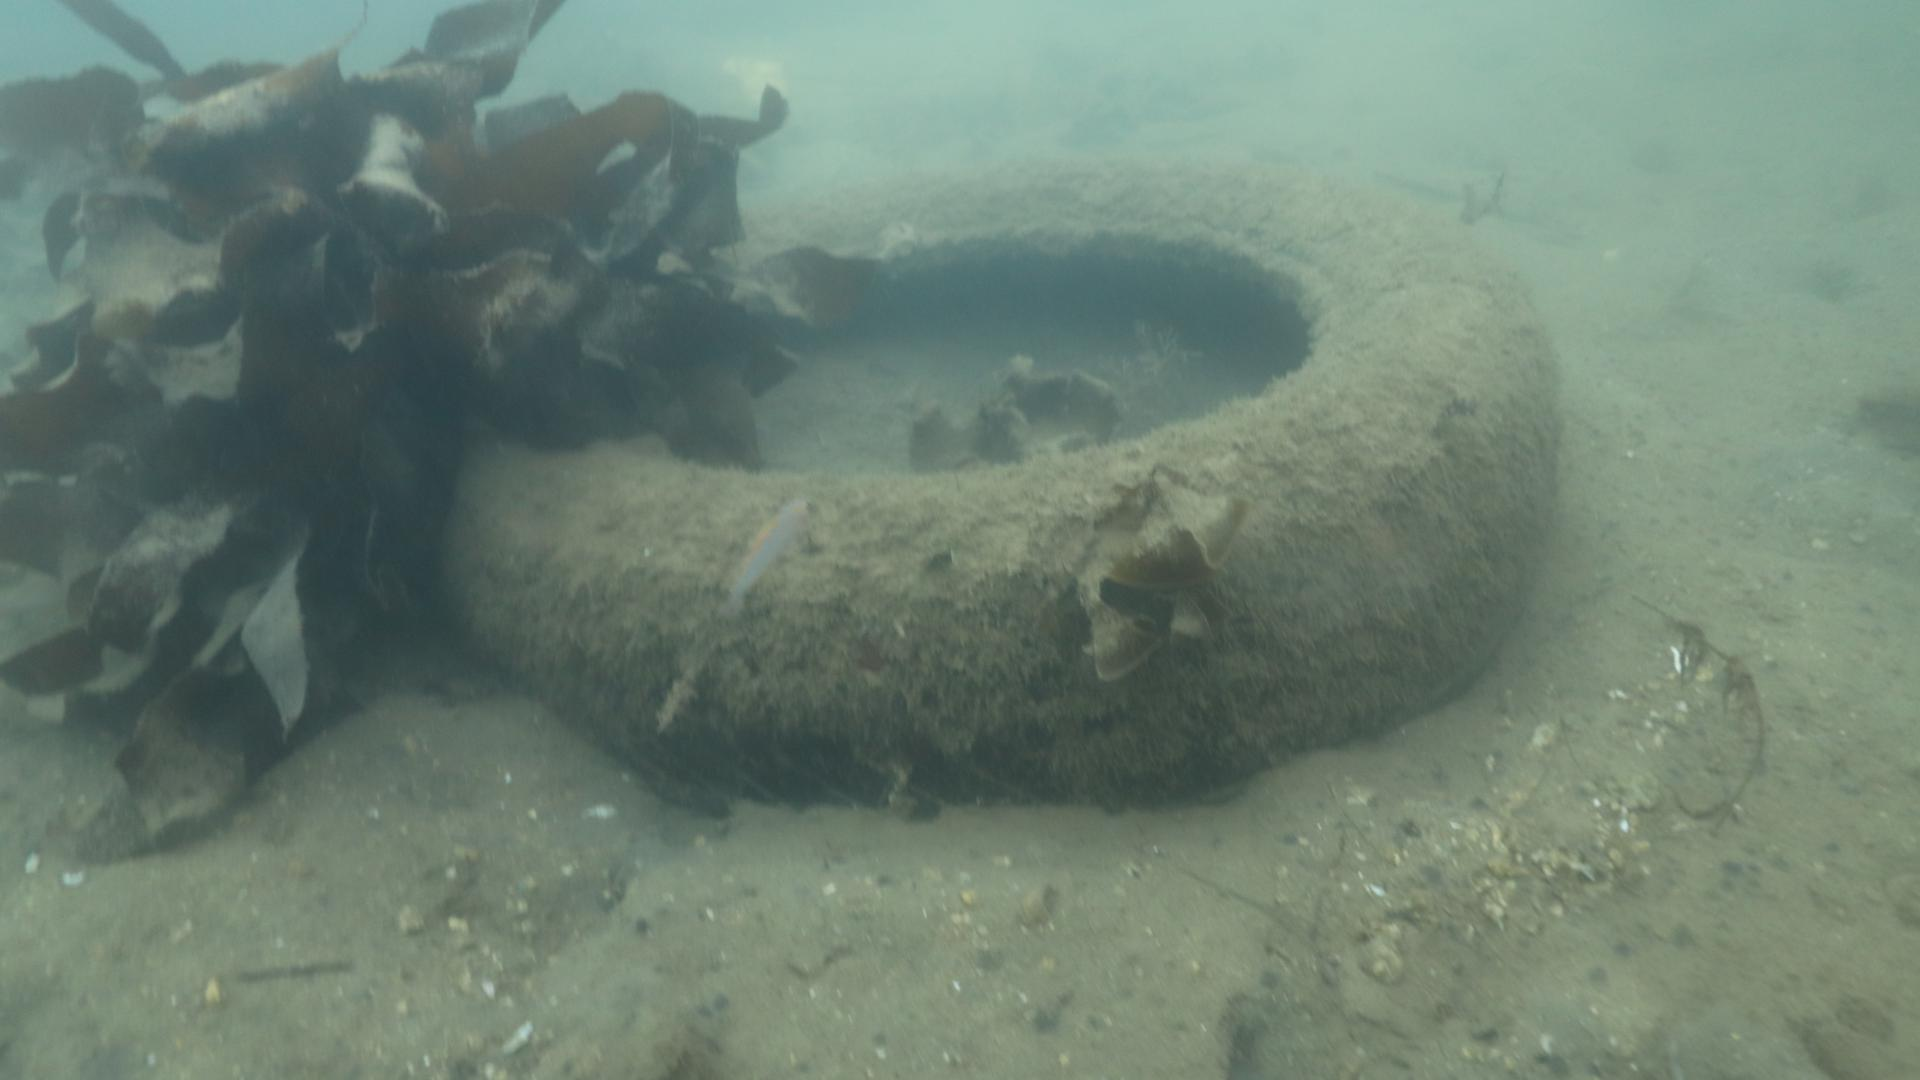tire: (433, 153, 1563, 811)
